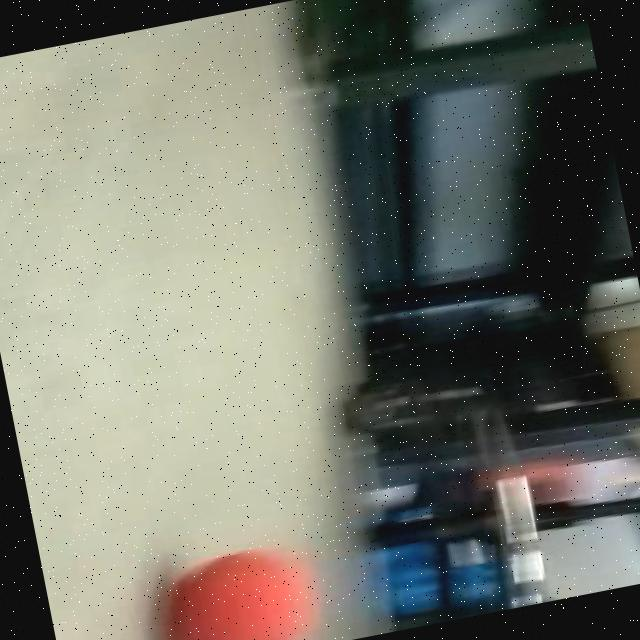ping-pong-ball: (153, 533, 327, 640)
